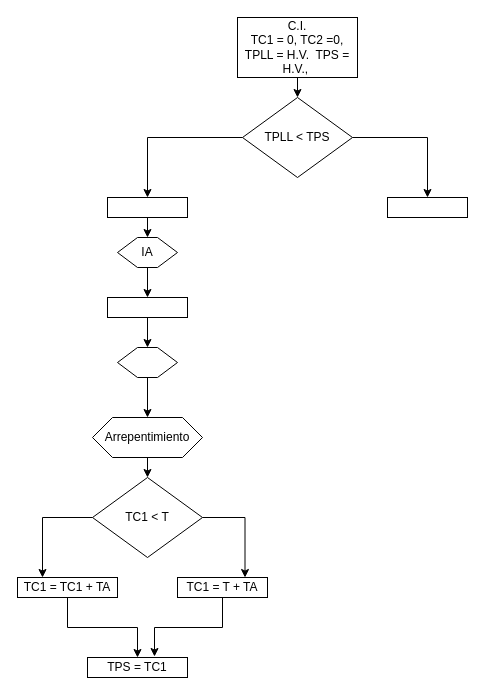
This 485x695 diagram has some shape labels left out. The centre of each missing label's shape, as x and y in pixels:
T = TPLL: the point at 147,207
T = TPS: the point at 427,207
TA: the point at 147,362
TPLL = T + IA: the point at 147,307
